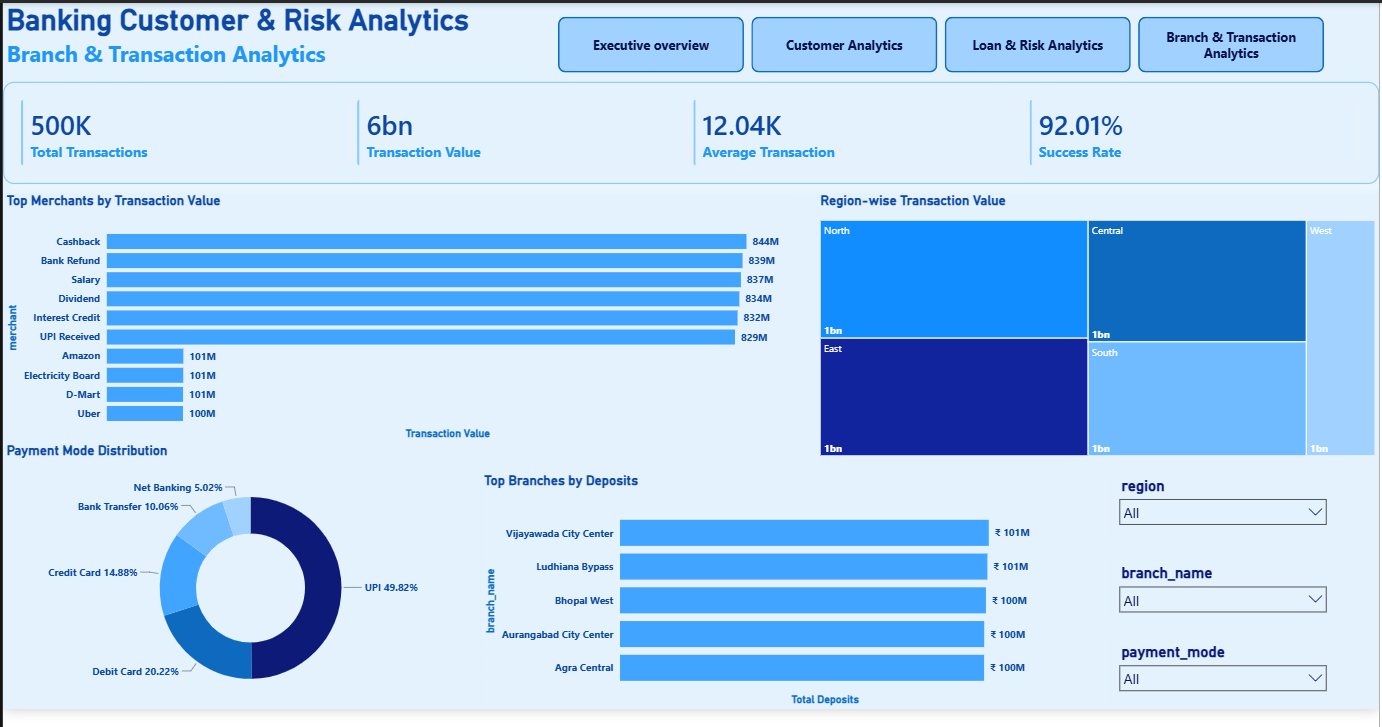

The page's visual inventory and layout, read from the dashboard file:
{"tool":"powerbi","page":{"name":"Branch & Transaction Analytics","canvas":[1850,950],"ordinal":3},"visuals":[{"type":"textbox","title":"Banking Customer & Risk Analytics ","box":[0,0,761.3,94.1],"z":0},{"type":"cardVisual","fields":{"Data":["new measures.Total Transactions","new measures.Transaction Value","new measures.Average Transaction","new measures.Success Rate"]},"box":[0,105.9,1850.3,137.8],"z":1000},{"type":"clusteredBarChart","title":"Top Merchants by Transaction Value","fields":{"Category":["transactions.merchant"],"Y":["new measures.Transaction Value"]},"box":[0,256,1062,336],"z":2000},{"type":"donutChart","title":"Payment Mode Distribution","fields":{"Category":["transactions.payment_mode"],"Y":["new measures.Transaction Value"]},"box":[0,592,666,358],"z":3000},{"type":"clusteredBarChart","title":"Top Branches by Deposits","fields":{"Y":["new measures.Total Deposits"],"Category":["branches.branch_name"]},"box":[642,631.9,744.5,317.6],"z":4000},{"type":"treemap","title":"Region-wise Transaction Value","fields":{"Values":["new measures.Transaction Value"],"Group":["branches.region"]},"box":[1094,256,756,358],"z":5000},{"type":"slicer","fields":{"Values":["branches.region"]},"box":[1490.7,631.9,299.1,94.1],"z":6000},{"type":"slicer","fields":{"Values":["transactions.payment_mode"]},"box":[1490.7,855.4,299.1,94.1],"z":7000},{"type":"slicer","fields":{"Values":["branches.branch_name"]},"box":[1490.7,749.5,299.1,82.3],"z":8000},{"type":"pageNavigator","box":[746.2,18.5,1031.9,75.6],"z":8001}]}

Visuals, with their boxes in screenshot pixels (x1, y1, x2, y2), scaled from the page's 1850x950 canvas onto the 1382x727 screenshot:
"Banking Customer & Risk Analytics " textbox: bbox=[0, 0, 569, 72]
cardVisual - new measures.Total Transactions x new measures.Transaction Value: bbox=[0, 81, 1381, 186]
"Top Merchants by Transaction Value" clusteredBarChart: bbox=[0, 196, 793, 453]
"Payment Mode Distribution" donutChart: bbox=[0, 453, 498, 726]
"Top Branches by Deposits" clusteredBarChart: bbox=[480, 484, 1036, 726]
"Region-wise Transaction Value" treemap: bbox=[817, 196, 1381, 470]
slicer - branches.region: bbox=[1114, 484, 1337, 556]
slicer - transactions.payment_mode: bbox=[1114, 655, 1337, 726]
slicer - branches.branch_name: bbox=[1114, 574, 1337, 637]
pageNavigator: bbox=[557, 14, 1328, 72]
